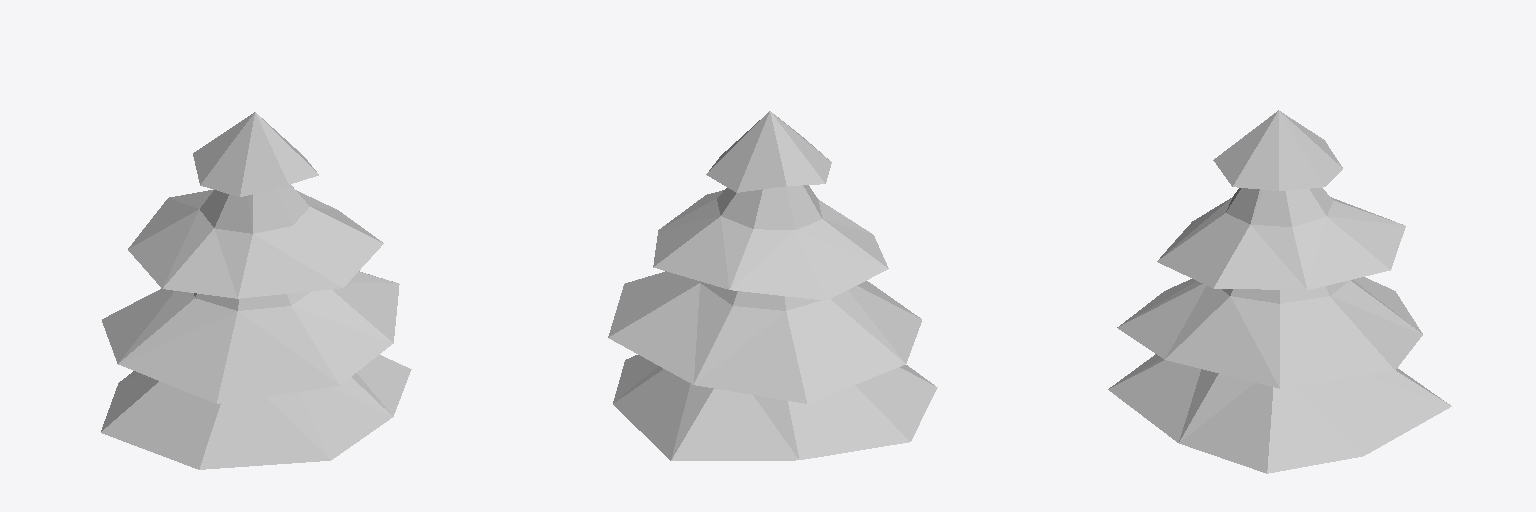
The model's file is PineTree_Leaves.obj.
3 views of the same model, side by side, from view 1: azimuth 30°, elevation 25°; view 2: azimuth 150°, elevation 25°; view 3: azimuth 270°, elevation 25° (orthographic).
Bounding box in the file's own units: 2.38 × 2.21 × 2.38.